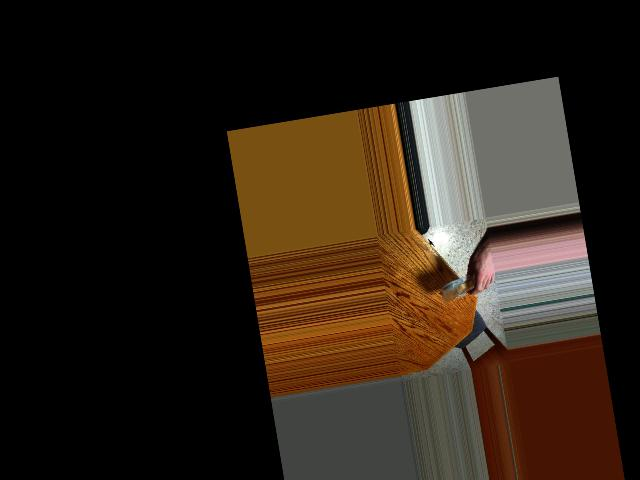cheese: (441, 267, 478, 303)
